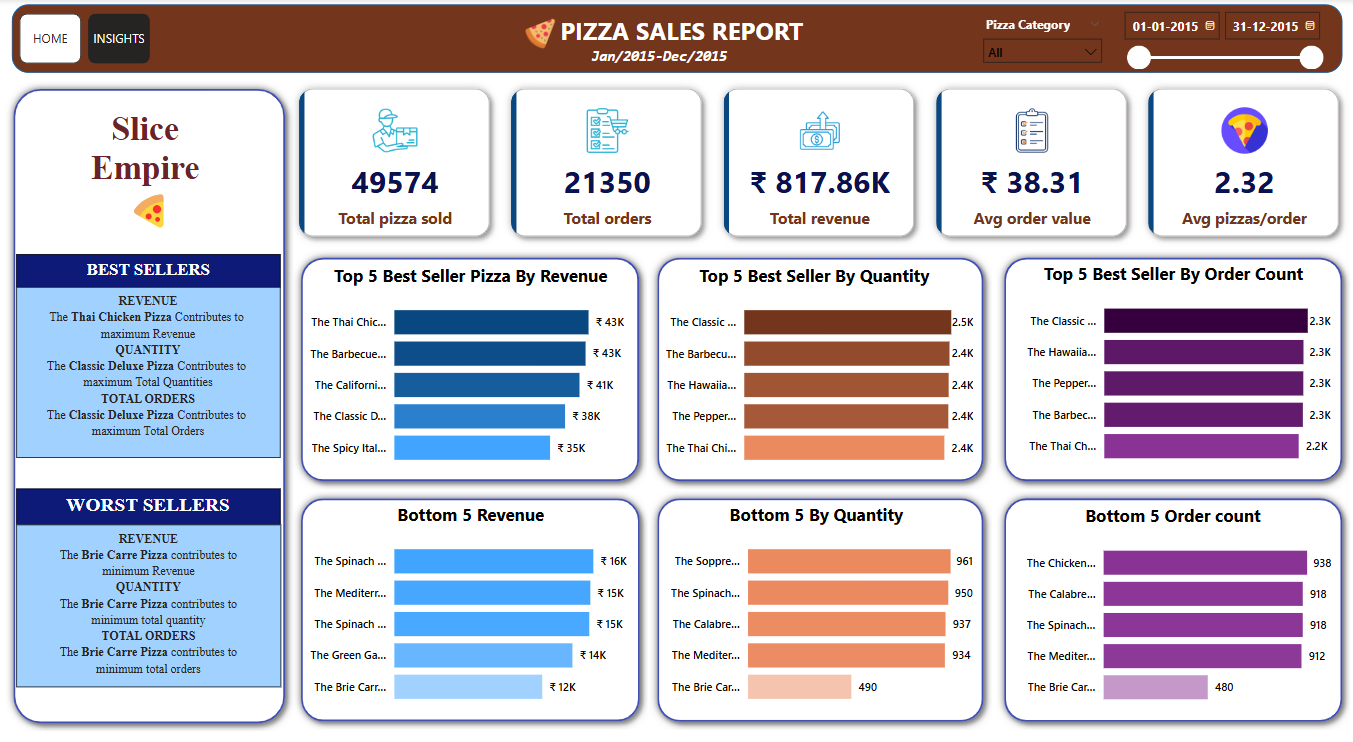

This screenshot's page, from the dashboard's own definition file:
{"tool":"powerbi","page":{"name":"INSIGHTS","canvas":[1500,820],"ordinal":1},"visuals":[{"type":"cardVisual","fields":{"Data":["pizza_sales.Total pizza sold","pizza_sales.Total orders","pizza_sales.Total Revenue","pizza_sales.Average order value","pizza_sales.Average pizzas per order"]},"box":[317.2,82.7,1182,197],"z":0},{"type":"shape","box":[16.7,7.5,1466.7,75.8],"z":1000},{"type":"textbox","box":[591.5,12.1,326.7,72.5],"z":2000},{"type":"textbox","box":[650.1,49.3,202.9,151.7],"z":3000},{"type":"image","box":[569.1,16.4,59.5,44.3],"z":4000},{"type":"shape","box":[327.5,542.5,391.2,263.8],"z":5000},{"type":"shape","box":[9.9,90.6,317.2,717.1],"z":8000},{"type":"textbox","box":[22.4,281.6,291.4,36.8],"z":9000},{"type":"textbox","box":[22.7,318.2,290.9,188.2],"z":10000},{"type":"textbox","box":[22.7,540.9,290.9,40],"z":11000},{"type":"textbox","box":[22.7,580.9,291.8,179.1],"z":12000},{"type":"slicer","fields":{"Values":["pizza_sales.order_date"]},"box":[1230.4,5.7,239.7,73.6],"z":13000},{"type":"slicer","fields":{"Values":["pizza_sales.pizza_category"]},"box":[1077.5,15.1,151,60.4],"z":14000},{"type":"shape","box":[326.5,277.4,390.6,264.2],"z":15000},{"type":"shape","box":[1102.1,541.6,390.6,264.2],"z":15001},{"type":"shape","box":[1102.1,277.4,390.6,264.2],"z":15002},{"type":"shape","box":[719,277.4,377.4,264.2],"z":15003},{"type":"shape","box":[719,541.6,377.4,264.2],"z":15004},{"type":"barChart","title":"Top 5 Best Seller Pizza  By Revenue","fields":{"Y":["pizza_sales.Total revenue"],"Category":["pizza_sales.pizza_name"]},"box":[328.4,292.5,388.7,235.9],"z":15005},{"type":"barChart","title":"Bottom 5 Revenue","fields":{"Y":["pizza_sales.Total revenue"],"Category":["pizza_sales.pizza_name"]},"box":[328.4,556.7,388.7,235.9],"z":15006},{"type":"barChart","title":"Top 5 Best Seller By Quantity","fields":{"Y":["pizza_sales.Total pizza sold"],"Category":["pizza_sales.pizza_name"]},"box":[720.9,292.5,360.4,235.9],"z":15007},{"type":"barChart","title":"Bottom 5 By Quantity","fields":{"Y":["pizza_sales.Total pizza sold"],"Category":["pizza_sales.pizza_name"]},"box":[726.5,556.7,354.8,235.9],"z":15008},{"type":"barChart","title":"Top 5 Best Seller By Order Count","fields":{"Category":["pizza_sales.pizza_name"],"Y":["pizza_sales.Total orders"]},"box":[1119,290.6,356.7,235.9],"z":15009},{"type":"barChart","title":"Bottom 5 Order count","fields":{"Category":["pizza_sales.pizza_name"],"Y":["pizza_sales.Total orders"]},"box":[1117.4,557.5,358.9,234.5],"z":15010},{"type":"textbox","box":[23.6,116.2,289.6,153.7],"z":15011},{"type":"pageNavigator","box":[25.6,17.7,69,55.2],"z":15012},{"type":"pageNavigator","box":[102.4,17.7,69,55.2],"z":15013}]}

Visuals, with their boxes in screenshot pixels (x1, y1, x2, y2), scaled from the page's 1500x820 canvas onto the 1353x742 screenshot:
cardVisual - pizza_sales.Total pizza sold x pizza_sales.Total orders: (left=286, top=75, right=1352, bottom=253)
shape: (left=15, top=7, right=1338, bottom=75)
textbox: (left=534, top=11, right=828, bottom=77)
textbox: (left=586, top=45, right=769, bottom=182)
image: (left=513, top=15, right=567, bottom=55)
shape: (left=295, top=491, right=648, bottom=730)
shape: (left=9, top=82, right=295, bottom=731)
textbox: (left=20, top=255, right=283, bottom=288)
textbox: (left=20, top=288, right=283, bottom=458)
textbox: (left=20, top=489, right=283, bottom=526)
textbox: (left=20, top=526, right=284, bottom=688)
slicer - pizza_sales.order_date: (left=1110, top=5, right=1326, bottom=72)
slicer - pizza_sales.pizza_category: (left=972, top=14, right=1108, bottom=68)
shape: (left=295, top=251, right=647, bottom=490)
shape: (left=994, top=490, right=1346, bottom=729)
shape: (left=994, top=251, right=1346, bottom=490)
shape: (left=649, top=251, right=989, bottom=490)
shape: (left=649, top=490, right=989, bottom=729)
"Top 5 Best Seller Pizza  By Revenue" barChart: (left=296, top=265, right=647, bottom=478)
"Bottom 5 Revenue" barChart: (left=296, top=504, right=647, bottom=717)
"Top 5 Best Seller By Quantity" barChart: (left=650, top=265, right=975, bottom=478)
"Bottom 5 By Quantity" barChart: (left=655, top=504, right=975, bottom=717)
"Top 5 Best Seller By Order Count" barChart: (left=1009, top=263, right=1331, bottom=476)
"Bottom 5 Order count" barChart: (left=1008, top=504, right=1332, bottom=717)
textbox: (left=21, top=105, right=283, bottom=244)
pageNavigator: (left=23, top=16, right=85, bottom=66)
pageNavigator: (left=92, top=16, right=155, bottom=66)
